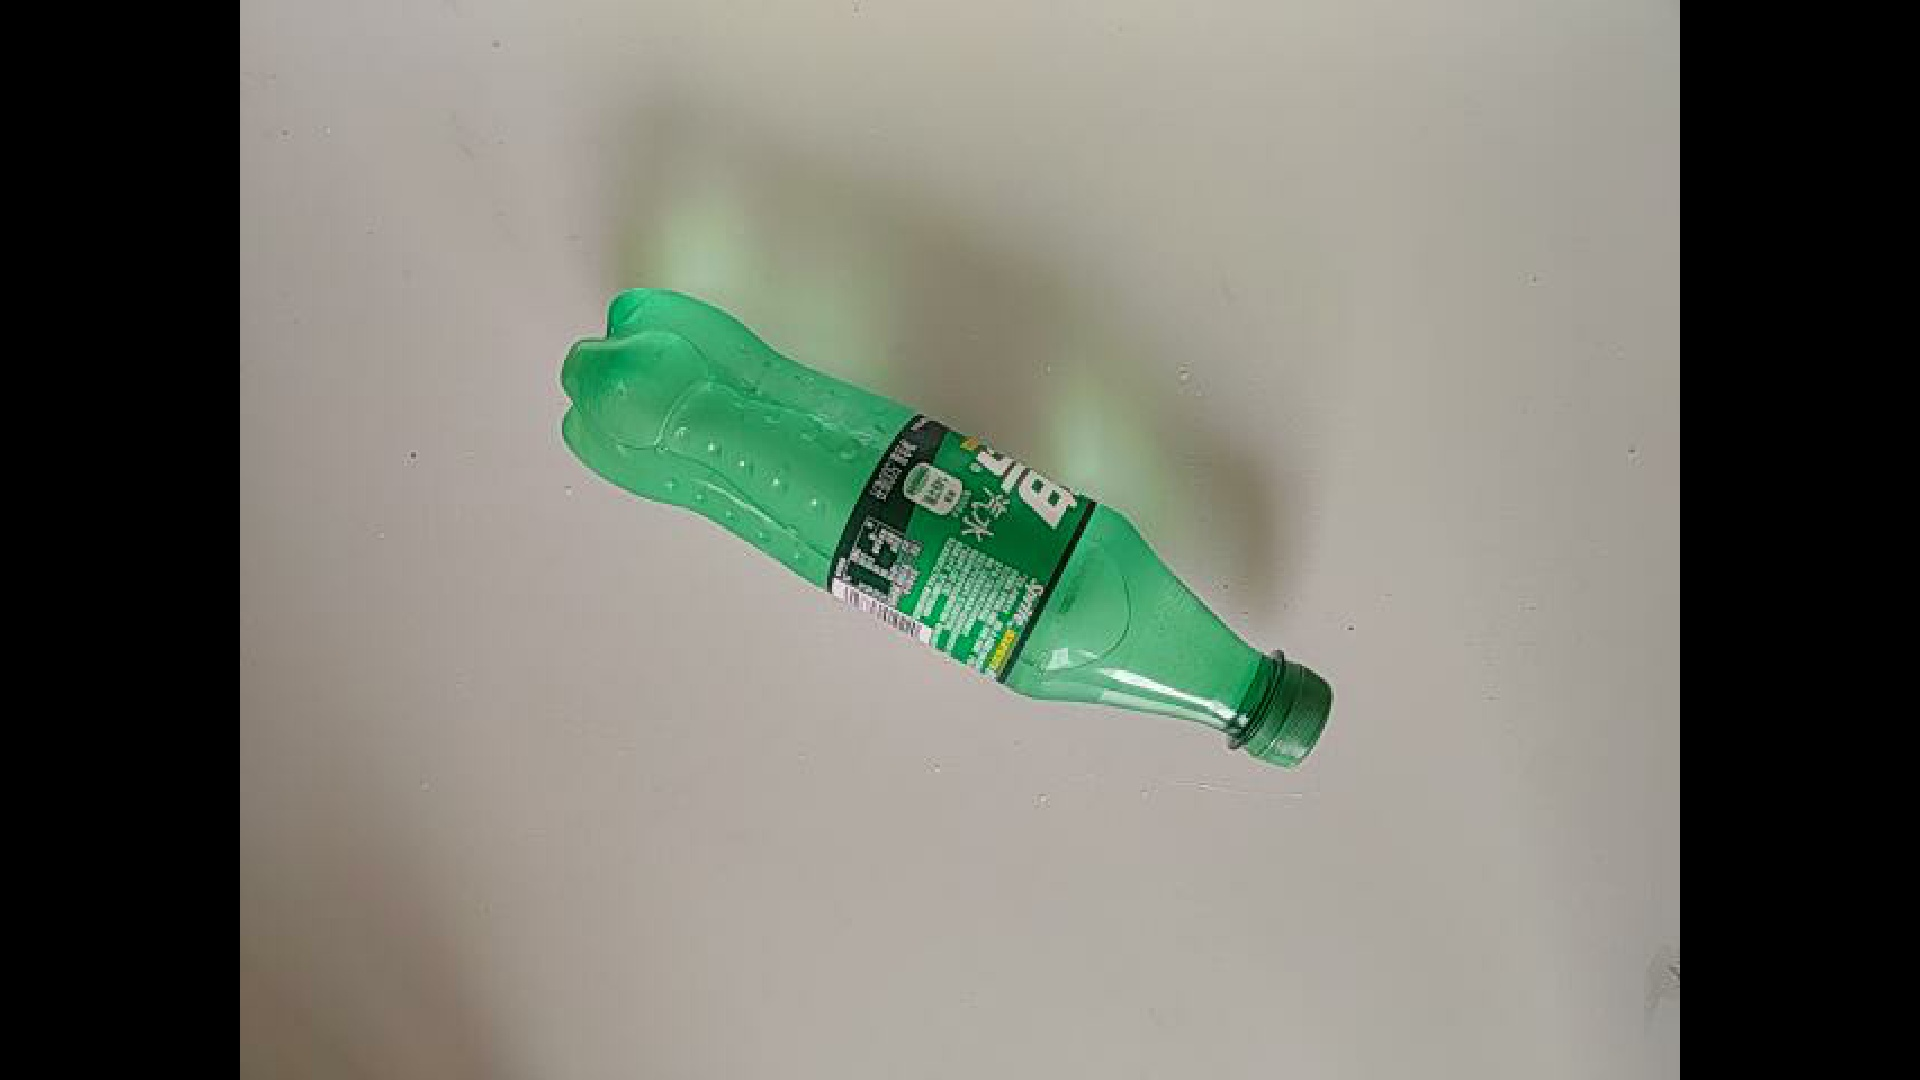sprite: (446, 253, 1373, 659)
